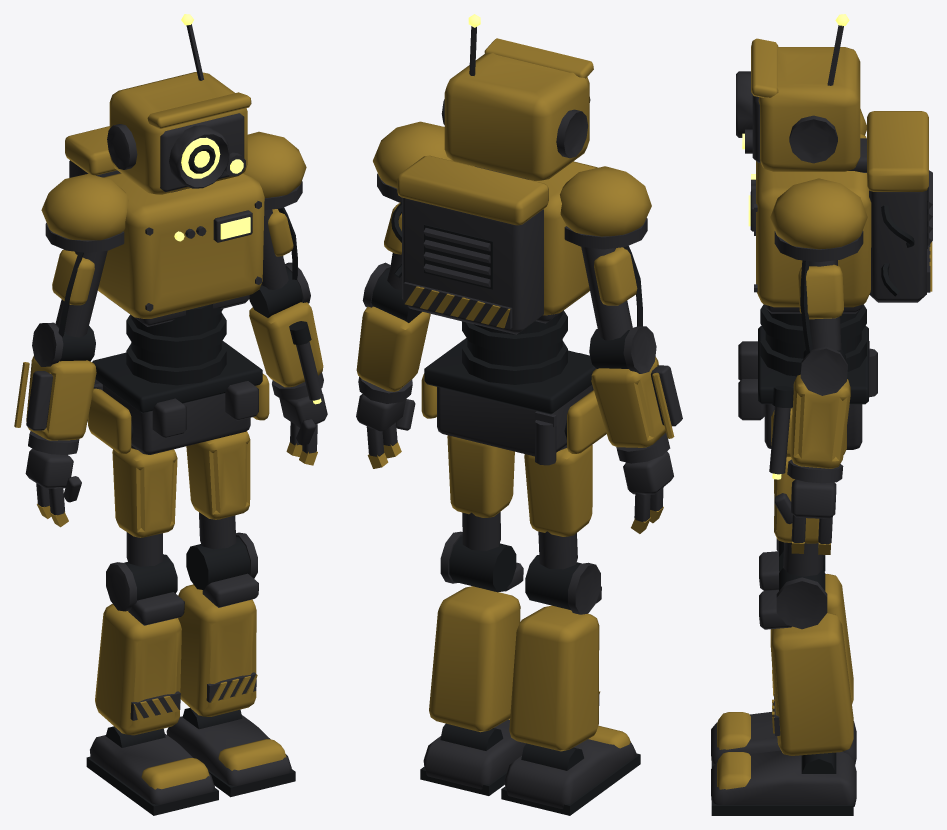
Rendered from bolt.fbx.
3 renders of one model, left to right at view 1: azimuth 30°, elevation 25°; view 2: azimuth 150°, elevation 25°; view 3: azimuth 270°, elevation 25°, orthographic. The views are drawn at different scales.
Parts seen in each view (by area): view 1: chest, head, shin_R, hips, shin_L, forearm_R, foot_R, forearm_L, foot_L, spine, thigh_R, thigh_L (+6 smaller); view 2: chest, head, shin_R, shin_L, hips, forearm_R, foot_R, forearm_L, thigh_R, clavicle_R, thigh_L, spine (+6 smaller); view 3: chest, head, shin_L, foot_L, forearm_L, clavicle_L, hips, spine, upperarm_L, hand_L, foot_R, thigh_L (+1 smaller).
Boxes of the visible parts, bbox=[...] form: chest: bbox=[65, 126, 264, 326]; head: bbox=[107, 14, 251, 194]; shin_R: bbox=[95, 554, 184, 735]; hips: bbox=[87, 340, 269, 454]; shin_L: bbox=[178, 532, 258, 716]; forearm_R: bbox=[14, 322, 96, 454]; foot_R: bbox=[86, 726, 218, 815]; forearm_L: bbox=[249, 262, 323, 404]; foot_L: bbox=[166, 708, 295, 797]; spine: bbox=[126, 304, 226, 385]; thigh_R: bbox=[112, 445, 177, 566]; thigh_L: bbox=[186, 431, 250, 549]; chest: bbox=[391, 155, 597, 334]; head: bbox=[441, 14, 593, 180]; shin_R: bbox=[509, 555, 601, 751]; shin_L: bbox=[429, 531, 523, 732]; hips: bbox=[421, 338, 606, 465]; forearm_R: bbox=[589, 326, 682, 463]; foot_R: bbox=[501, 725, 640, 815]; forearm_L: bbox=[356, 262, 430, 403]; thigh_R: bbox=[524, 445, 592, 569]; clavicle_R: bbox=[560, 166, 651, 249]; thigh_L: bbox=[447, 435, 514, 550]; spine: bbox=[462, 310, 567, 384]; chest: bbox=[748, 111, 932, 313]; head: bbox=[736, 14, 860, 171]; shin_L: bbox=[759, 568, 853, 755]; foot_L: bbox=[711, 750, 856, 815]; forearm_L: bbox=[769, 346, 850, 483]; clavicle_L: bbox=[770, 178, 867, 262]; hips: bbox=[738, 325, 877, 456]; spine: bbox=[760, 304, 866, 376]; upperarm_L: bbox=[798, 260, 843, 354]; hand_L: bbox=[774, 479, 836, 554]; foot_R: bbox=[711, 712, 856, 767]; thigh_L: bbox=[774, 457, 823, 576].
Bounding box in the file's own units: 0.7132 × 1.66 × 0.4303.
